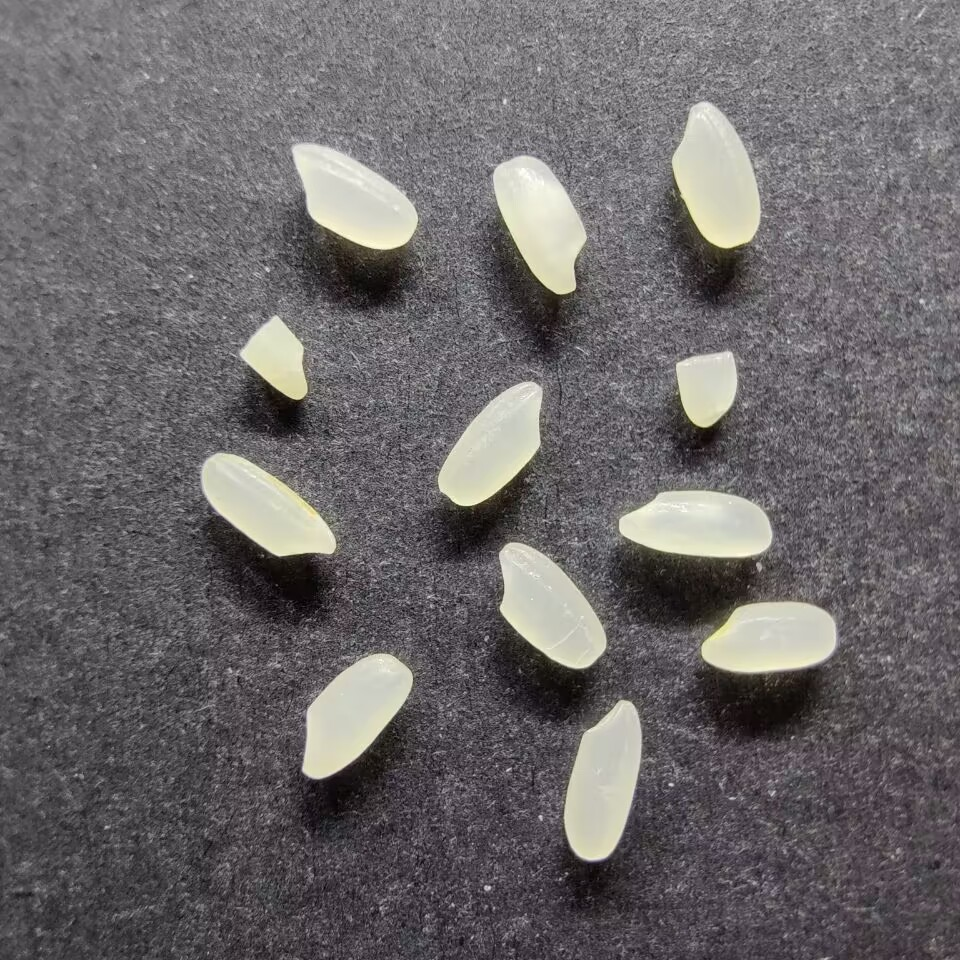broken: (237, 313, 311, 401), (674, 350, 738, 429)
rice: (198, 451, 339, 559), (299, 650, 414, 781), (496, 540, 608, 669), (290, 141, 420, 252), (435, 378, 545, 507), (490, 154, 589, 296), (669, 99, 762, 249), (561, 696, 643, 862), (617, 488, 774, 558), (700, 600, 838, 674)
